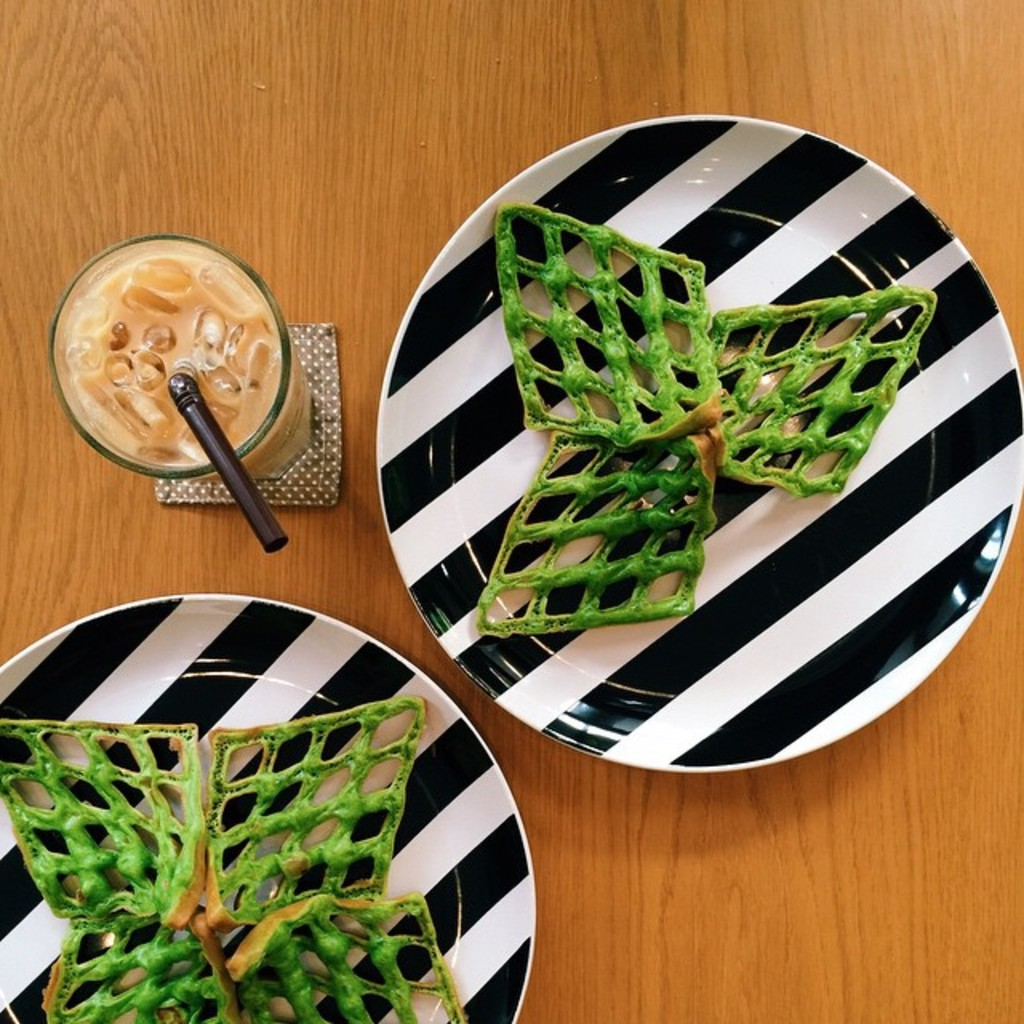plate: (422, 230, 984, 718)
